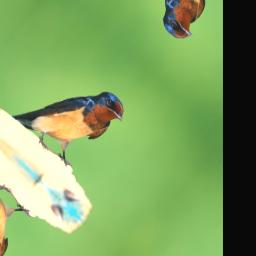Swallow: (9, 48, 132, 180)
